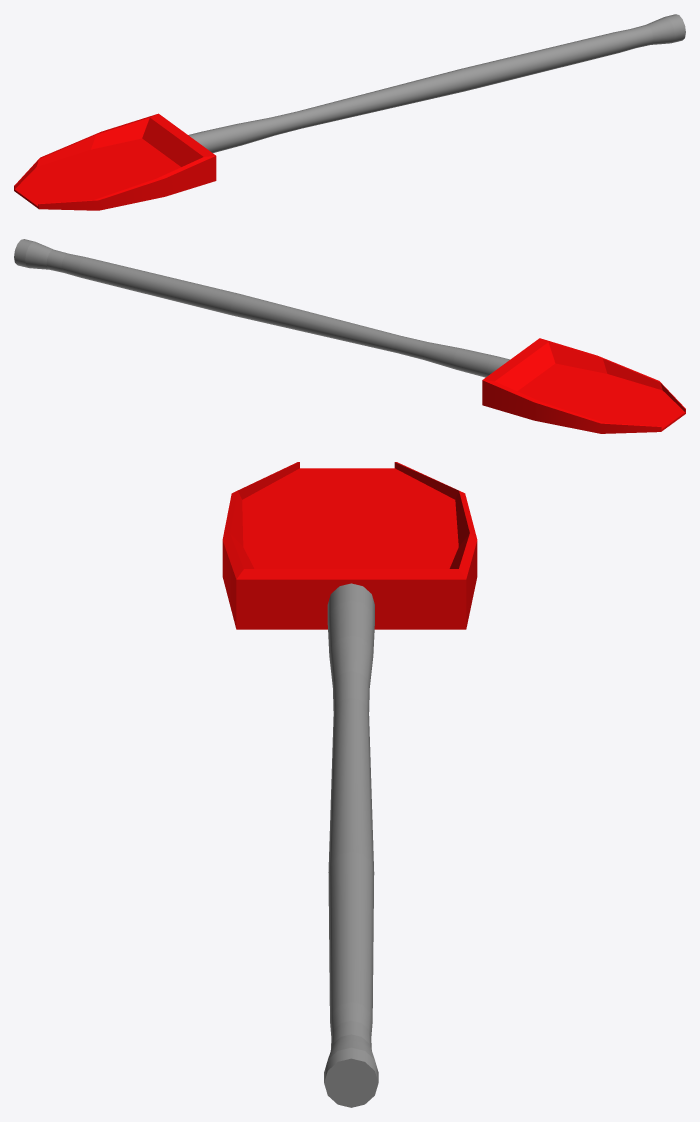
The model's file is SM_Pelle2.FBX.
3 views of the same model, one above another, from view 1: azimuth 30°, elevation 25°; view 2: azimuth 150°, elevation 25°; view 3: azimuth 270°, elevation 25° (orthographic). The views are drawn at different scales.
Parts seen in each view (by area): view 1: Object006; view 2: Object006; view 3: Object006.
Boxes of the visible parts, left/top/right/bottom form: Object006: left=14, top=14, right=685, bottom=210; Object006: left=14, top=239, right=685, bottom=433; Object006: left=222, top=462, right=477, bottom=1107.
Size of the model in its own units: 224 by 8.23 by 37.84.
